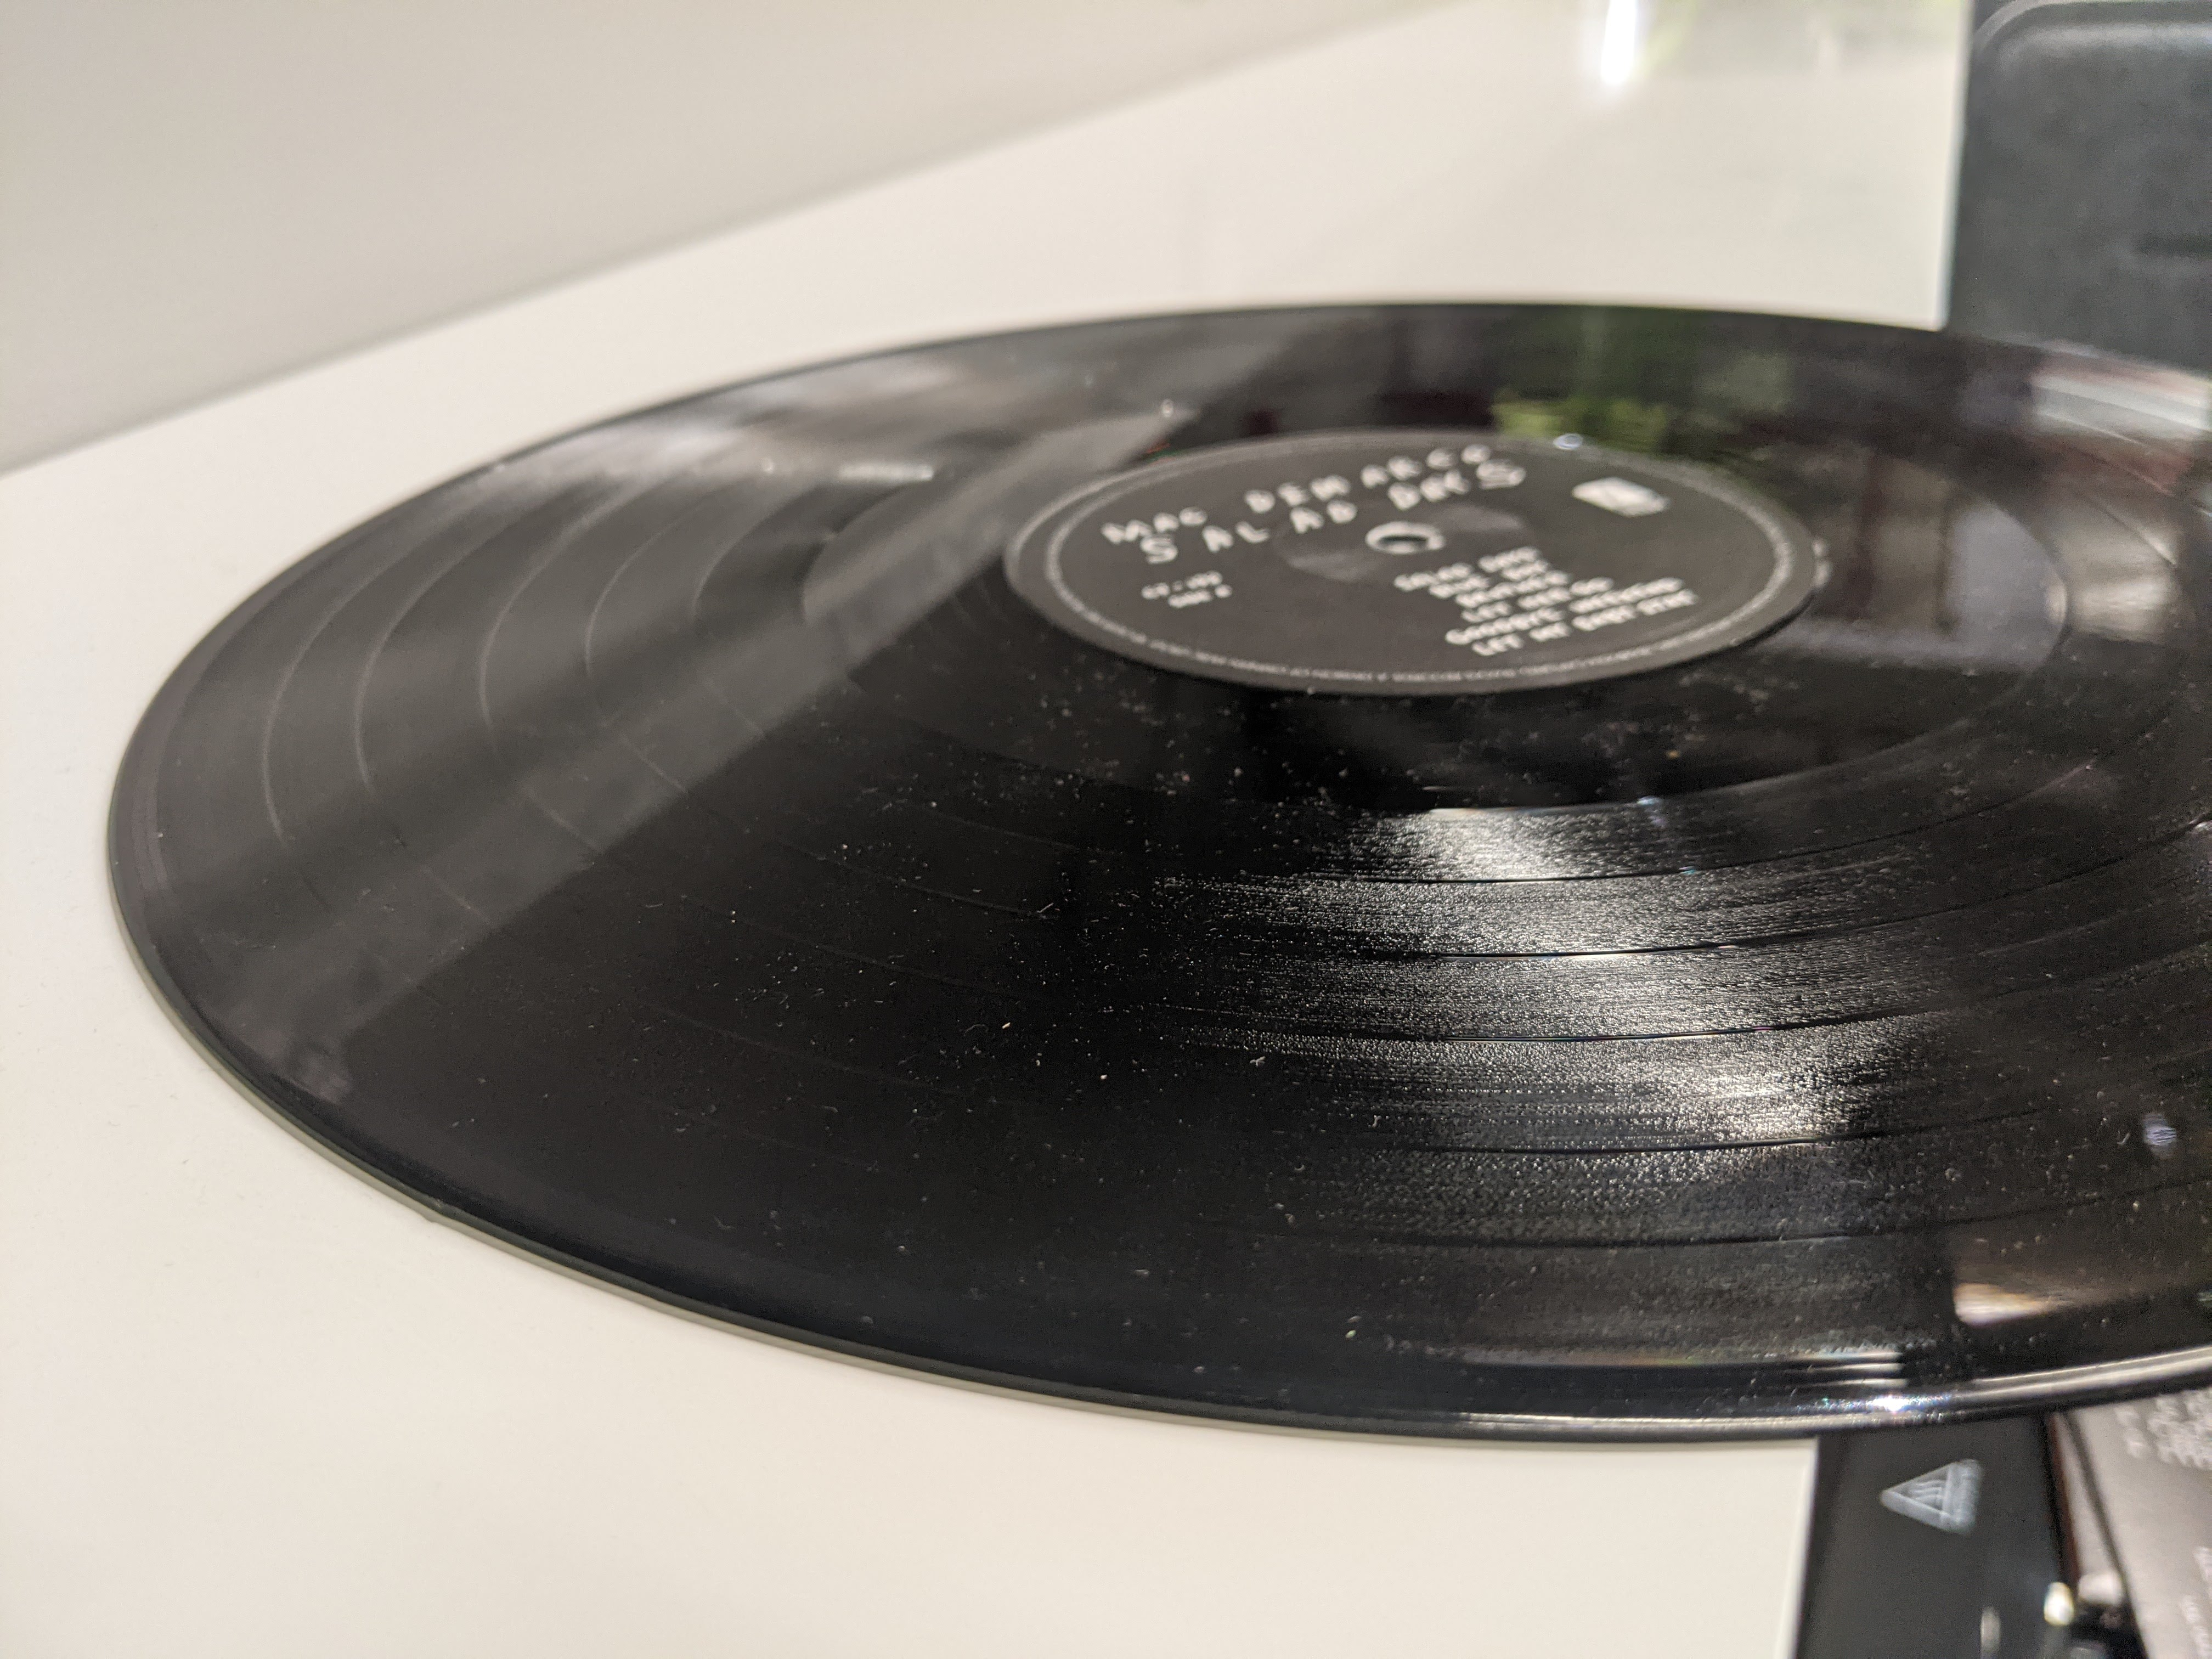song_edge: (444, 640, 536, 786), (667, 598, 756, 723), (324, 676, 406, 796), (557, 622, 637, 742), (233, 708, 307, 823)
